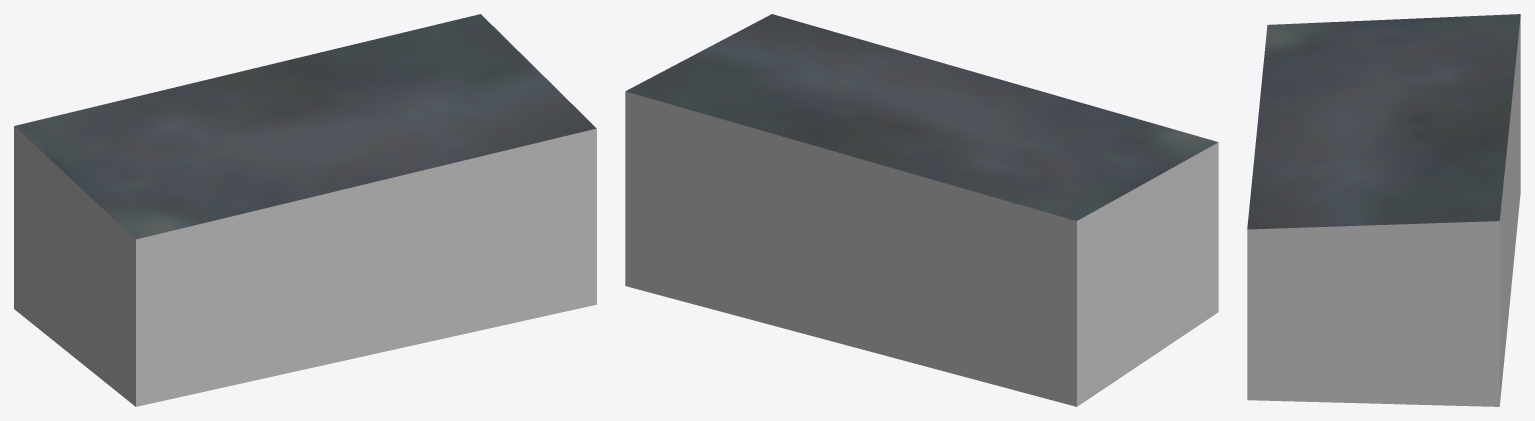
Rendered from DEBW_0010007Txby.gltf.
3 views of the same model, side by side, from view 1: azimuth 30°, elevation 25°; view 2: azimuth 150°, elevation 25°; view 3: azimuth 270°, elevation 25° (orthographic). The views are drawn at different scales.
Visible parts, largest first — view 1: Z_UP; view 2: Z_UP; view 3: Z_UP.
Boxes of the visible parts, x1,y1,x2,y2 form: Z_UP: [14, 14, 596, 406]; Z_UP: [625, 14, 1218, 406]; Z_UP: [1247, 14, 1520, 406].
Size of the model in its own units: 6.18 by 2.44 by 3.25.
Materials: 2 (1 with a texture image).
